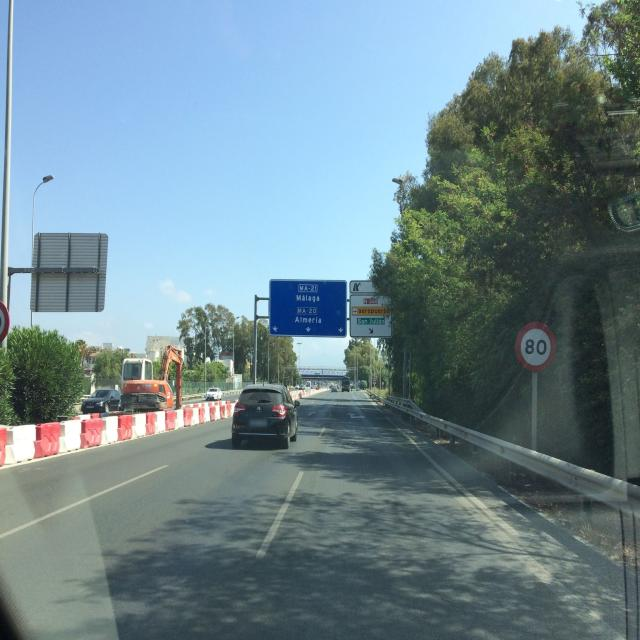car: (120, 340, 186, 414), (231, 382, 299, 448), (80, 386, 122, 415), (204, 387, 223, 401), (341, 380, 351, 392), (330, 383, 338, 392)
